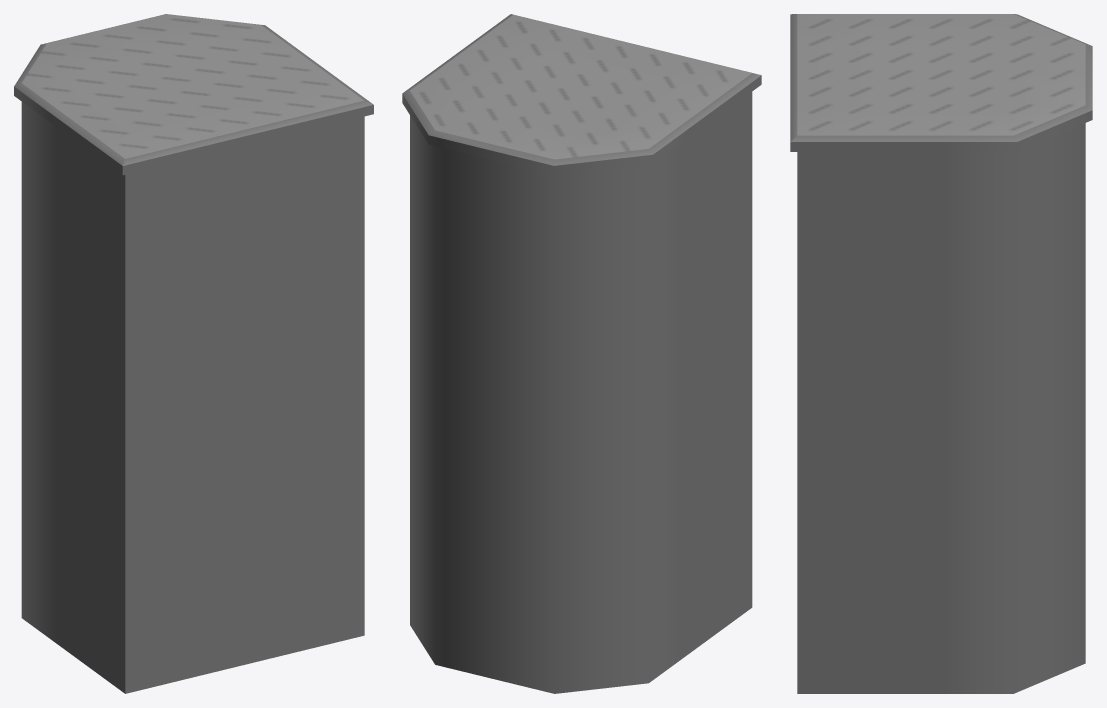
The model's file is Stone Angle 2 R.fbx.
3 views of the same model, side by side, from view 1: azimuth 30°, elevation 25°; view 2: azimuth 150°, elevation 25°; view 3: azimuth 270°, elevation 25° (orthographic). The views are drawn at different scales.
Parts seen in each view (by area): view 1: Stone_Angle_2_R; view 2: Stone_Angle_2_R; view 3: Stone_Angle_2_R.
Part boxes in pixels (x1,y1,x2,y2): Stone_Angle_2_R: (14,14,373,693); Stone_Angle_2_R: (402,14,761,693); Stone_Angle_2_R: (790,14,1092,693).
Size of the model in its own units: 4.2 by 8.55 by 4.2.
